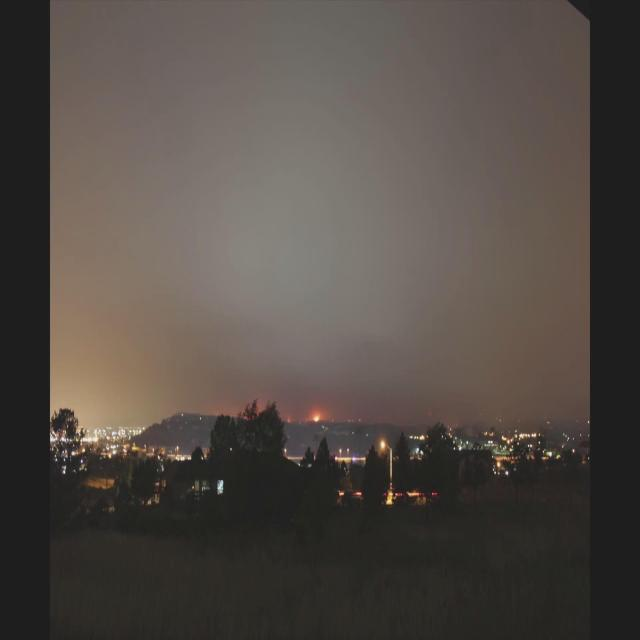Fire: (312, 411, 321, 423), (286, 416, 291, 423)
